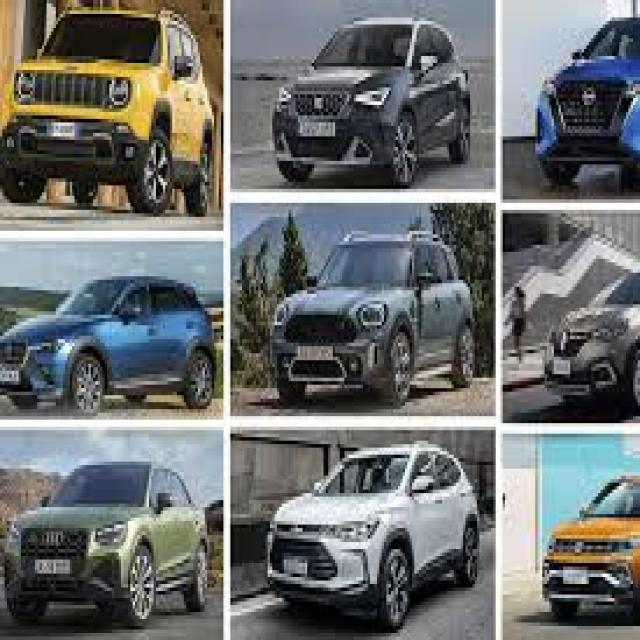SUV: (5, 5, 216, 216), (265, 441, 485, 631), (269, 227, 481, 406), (6, 460, 216, 629), (276, 19, 478, 190), (4, 278, 220, 420), (533, 4, 640, 186), (540, 258, 638, 427), (540, 472, 638, 632)
